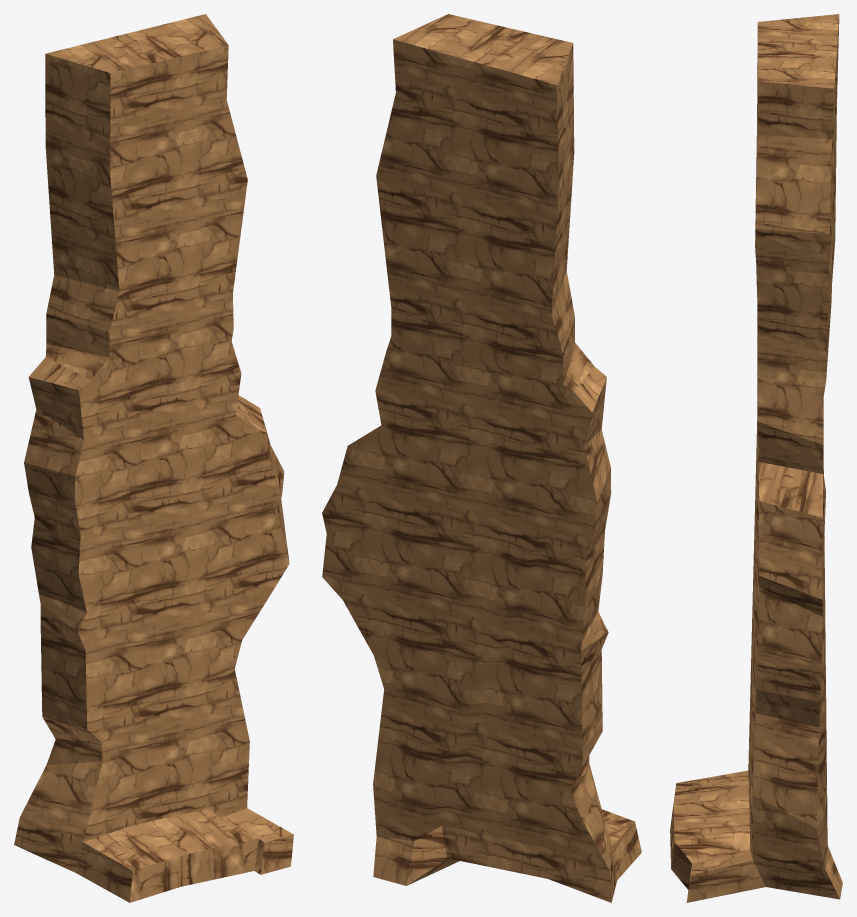
File: plano3.obj
3 views of the same model, side by side, from view 1: azimuth 30°, elevation 25°; view 2: azimuth 150°, elevation 25°; view 3: azimuth 270°, elevation 25° (orthographic). The views are drawn at different scales.
Parts seen in each view (by area): view 1: Plane.008_Plane.016; view 2: Plane.008_Plane.016; view 3: Plane.008_Plane.016.
Part boxes in pixels (bbox=[...]): Plane.008_Plane.016: bbox=[14, 14, 293, 902]; Plane.008_Plane.016: bbox=[322, 14, 641, 902]; Plane.008_Plane.016: bbox=[670, 14, 842, 902].
Bounding box in the file's own units: 480 × 1354 × 261.
Materials: 1 (1 with a texture image).
